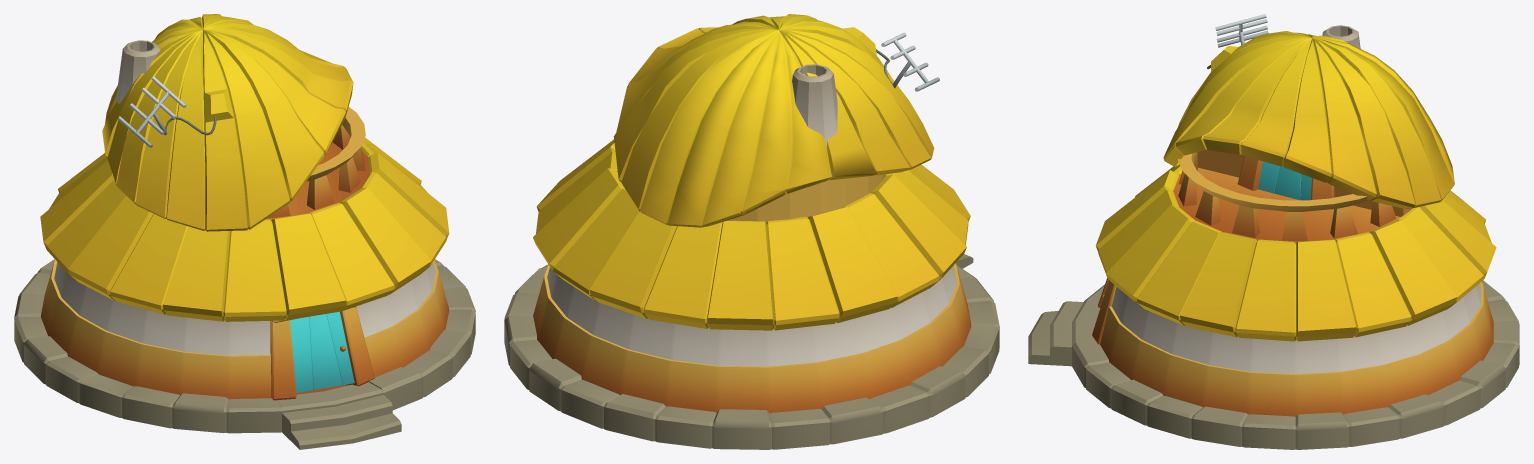
The model's file is House_1.FBX.
3 views of the same model, side by side, from view 1: azimuth 30°, elevation 25°; view 2: azimuth 150°, elevation 25°; view 3: azimuth 270°, elevation 25° (orthographic). The views are drawn at different scales.
Parts seen in each view (by area): view 1: House_1; view 2: House_1; view 3: House_1.
Boxes of the visible parts, left/top/right/bottom form: House_1: left=14, top=14, right=475, bottom=449; House_1: left=504, top=14, right=999, bottom=449; House_1: left=1028, top=14, right=1519, bottom=449.
Size of the model in its own units: 109 by 80.5 by 119.
1 material, 1 textured.
